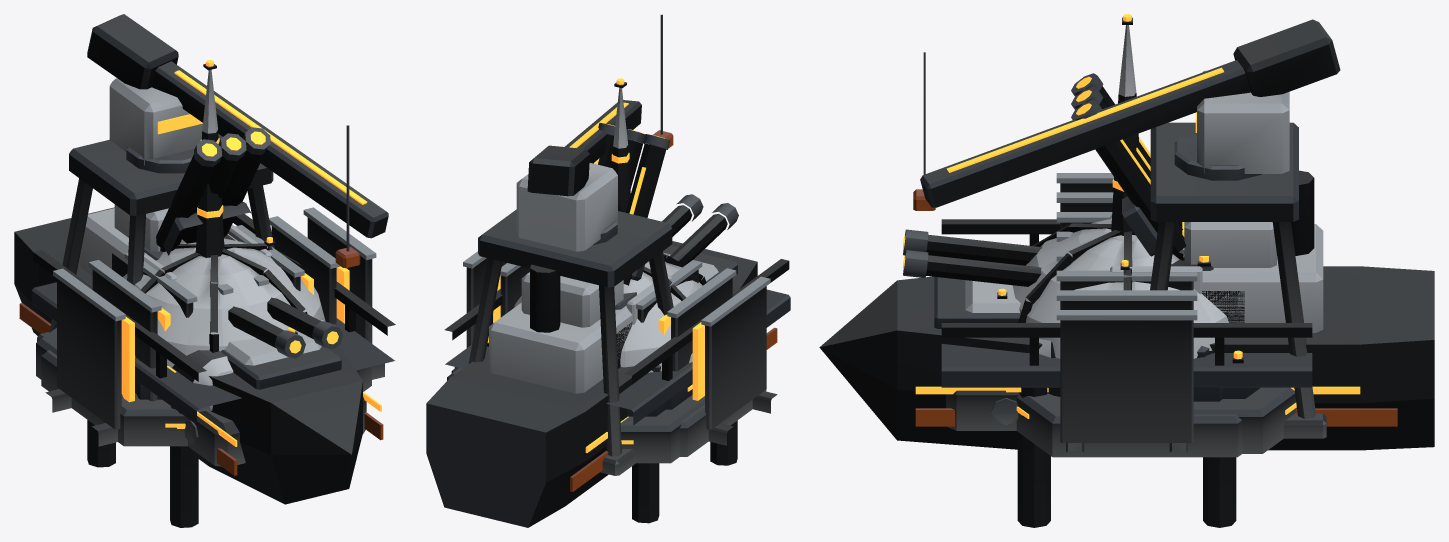
Rendered from vesper-infra.glb.
3 renders of one model, left to right at view 1: azimuth 30°, elevation 25°; view 2: azimuth 150°, elevation 25°; view 3: azimuth 270°, elevation 25°, orthographic. The views are drawn at different scales.
Visible parts, largest first — view 1: vesper_crane, vesper_icebreaker, vesper_radiator_array, vesper_missile_site, vesper_pier_segment, vesper_cryo_dome, vesper_cannon_site, vesper_ice_hauler, vesper_comm_needle, vesper_habitat_0; view 2: vesper_icebreaker, vesper_crane, vesper_radiator_array, vesper_pier_segment, vesper_cannon_site, vesper_missile_site, vesper_cryo_dome, vesper_comm_needle; view 3: vesper_icebreaker, vesper_crane, vesper_radiator_array, vesper_pier_segment, vesper_missile_site, vesper_cannon_site, vesper_cryo_dome, vesper_ice_hauler, vesper_comm_needle.
Part boxes in pixels (bbox=[...]): vesper_crane: bbox=[37, 14, 388, 341]; vesper_icebreaker: bbox=[14, 204, 383, 504]; vesper_radiator_array: bbox=[45, 207, 384, 446]; vesper_missile_site: bbox=[41, 127, 371, 446]; vesper_pier_segment: bbox=[31, 214, 395, 527]; vesper_cryo_dome: bbox=[123, 238, 325, 428]; vesper_cannon_site: bbox=[36, 253, 342, 398]; vesper_ice_hauler: bbox=[184, 327, 366, 466]; vesper_comm_needle: bbox=[195, 60, 224, 257]; vesper_habitat_0: bbox=[167, 237, 323, 411]; vesper_icebreaker: bbox=[426, 241, 777, 527]; vesper_crane: bbox=[468, 14, 673, 475]; vesper_radiator_array: bbox=[454, 251, 777, 445]; vesper_pier_segment: bbox=[444, 259, 790, 523]; vesper_cannon_site: bbox=[447, 194, 738, 463]; vesper_missile_site: bbox=[451, 122, 766, 456]; vesper_cryo_dome: bbox=[514, 253, 706, 372]; vesper_comm_needle: bbox=[611, 78, 630, 212]; vesper_icebreaker: bbox=[819, 170, 1434, 450]; vesper_crane: bbox=[913, 19, 1340, 438]; vesper_radiator_array: bbox=[1056, 173, 1197, 452]; vesper_pier_segment: bbox=[941, 219, 1312, 527]; vesper_missile_site: bbox=[1016, 73, 1242, 457]; vesper_cannon_site: bbox=[903, 229, 1296, 453]; vesper_cryo_dome: bbox=[1012, 219, 1228, 415]; vesper_ice_hauler: bbox=[946, 280, 1048, 430]; vesper_comm_needle: bbox=[1111, 14, 1139, 235].
Bounding box in the file's own units: 2 × 2.76 × 3.32.
